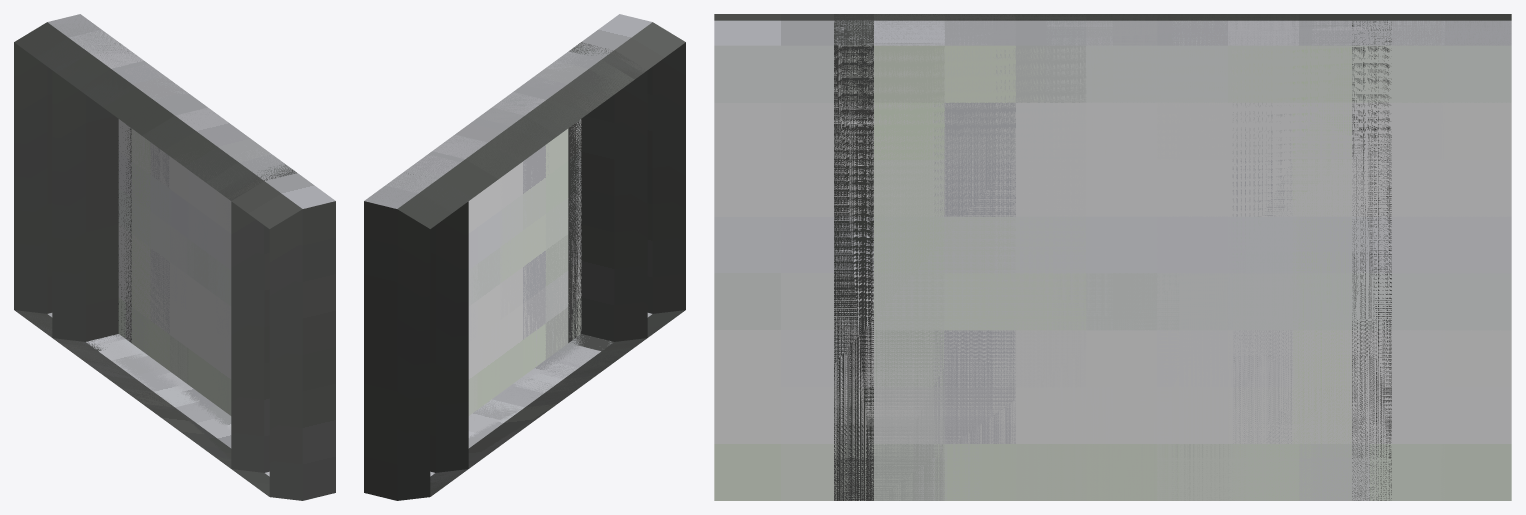
Rendered from fluorescent_lamp_top.obj.
3 views of the same model, side by side, from view 1: azimuth 30°, elevation 25°; view 2: azimuth 150°, elevation 25°; view 3: azimuth 270°, elevation 25° (orthographic). The views are drawn at different scales.
Visible parts, largest first — view 1: FluoroMid, FluoroCap, FluoroSingle; view 2: FluoroCap, FluoroMid, FluoroSingle; view 3: FluoroCap, FluoroMid, FluoroSingle.
Boxes of the visible parts, x1,y1,x2,y2 form: FluoroMid: (15, 14, 335, 500); FluoroCap: (14, 14, 296, 472); FluoroSingle: (52, 43, 246, 460); FluoroCap: (364, 42, 647, 500); FluoroMid: (365, 14, 685, 496); FluoroSingle: (408, 54, 633, 472); FluoroCap: (834, 14, 1511, 500); FluoroMid: (714, 14, 1511, 500); FluoroSingle: (874, 14, 1391, 500).
Bounding box in the file's own units: 0.15 × 0.63 × 1.
